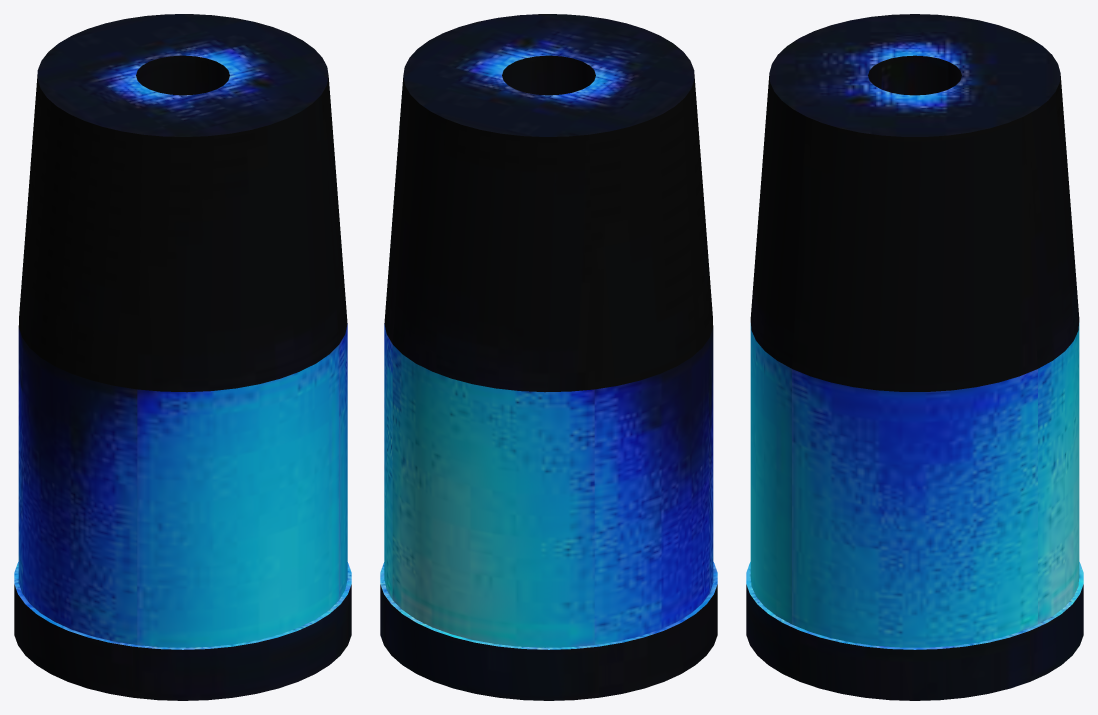
File: wmb_blue.glb
3 renders of one model, left to right at view 1: azimuth 30°, elevation 25°; view 2: azimuth 150°, elevation 25°; view 3: azimuth 270°, elevation 25°, orthographic.
Visible parts, largest first — view 1: Asset3DLoader.sceneRoot; view 2: Asset3DLoader.sceneRoot; view 3: Asset3DLoader.sceneRoot.
Part boxes in pixels (left/top/right/bottom): Asset3DLoader.sceneRoot: left=14, top=14, right=351, bottom=700; Asset3DLoader.sceneRoot: left=380, top=14, right=717, bottom=700; Asset3DLoader.sceneRoot: left=746, top=14, right=1083, bottom=700.
Size of the model in its own units: 72 by 130 by 71.8.
Materials: 1 (1 with a texture image).
